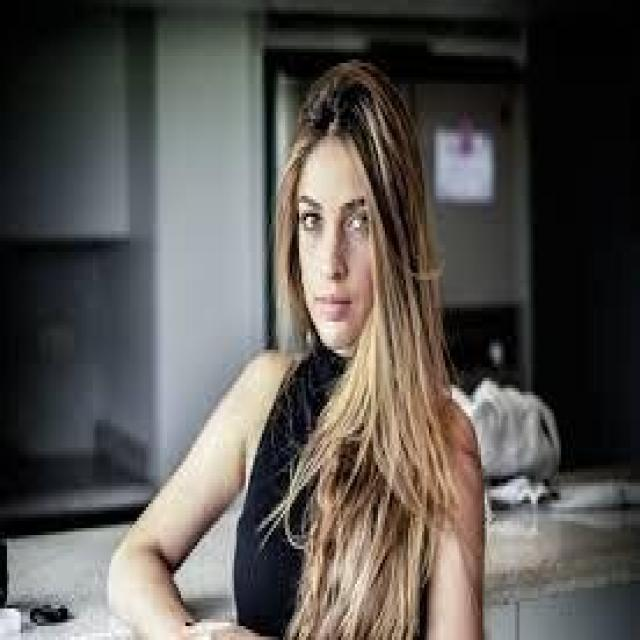person: (65, 24, 517, 636)
